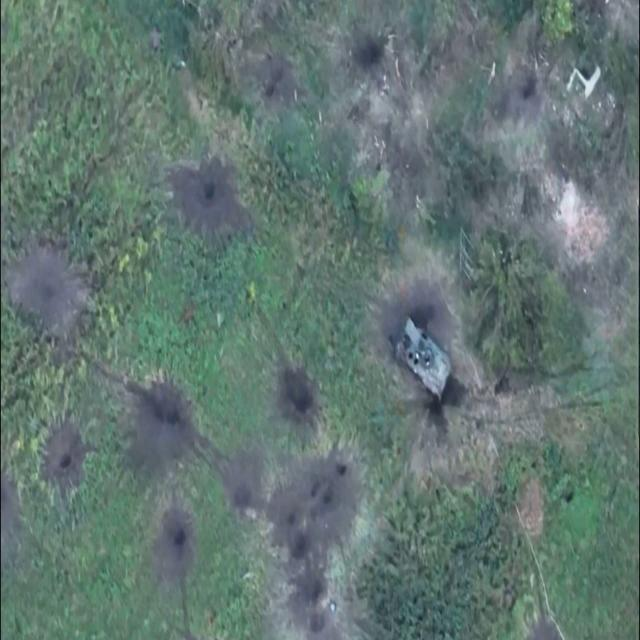AIFV: (396, 317, 452, 402)
